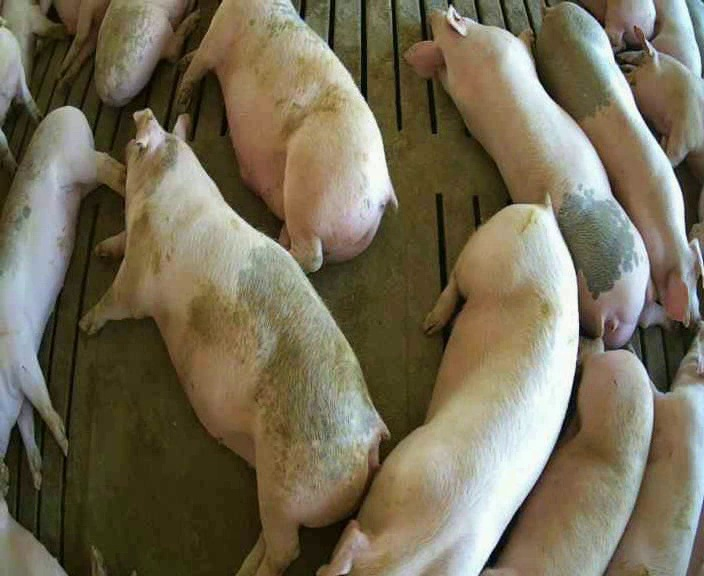pig: (80, 109, 387, 573), (319, 193, 578, 573), (405, 7, 679, 347), (176, 3, 396, 271), (536, 3, 703, 326), (0, 106, 123, 486), (485, 336, 652, 574), (606, 320, 703, 574), (95, 2, 200, 106), (55, 0, 108, 85), (579, 1, 655, 52)
